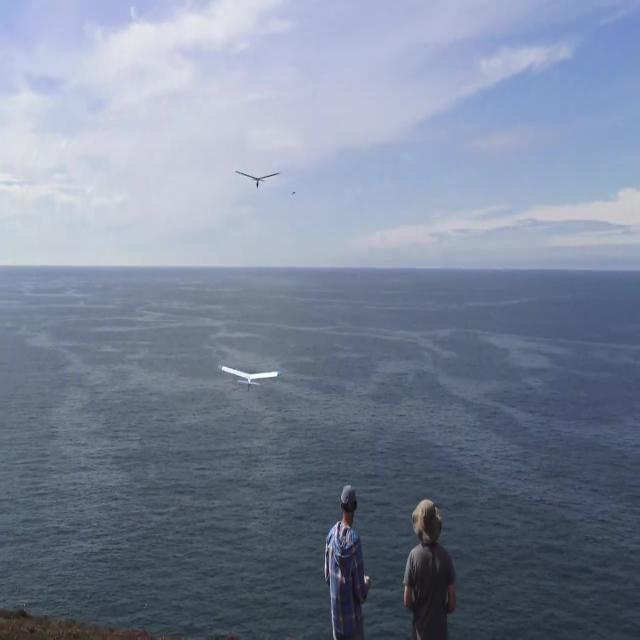iha: (235, 171, 281, 190), (249, 363, 250, 393)
